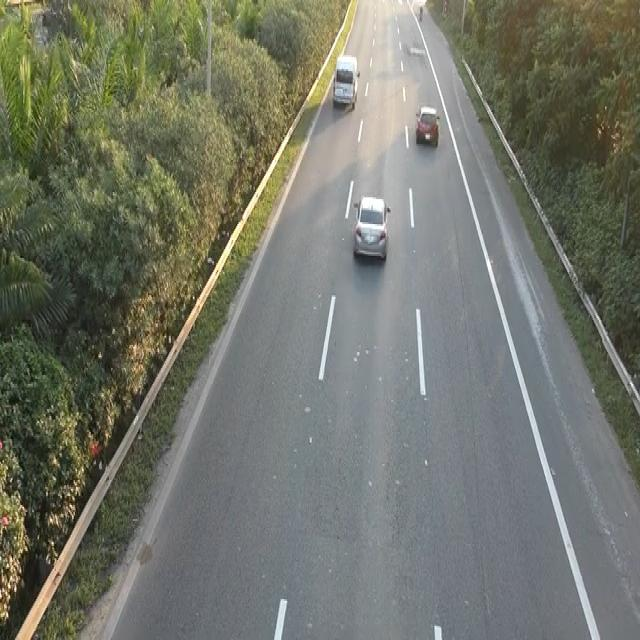bus: (350, 190, 393, 268), (414, 101, 440, 146)
jeep: (331, 52, 360, 110)
